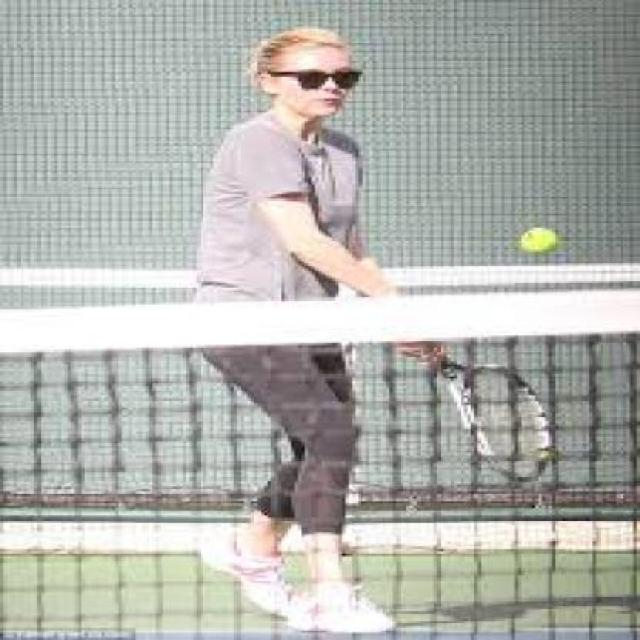Tennis_Ball: (517, 222, 558, 256)
